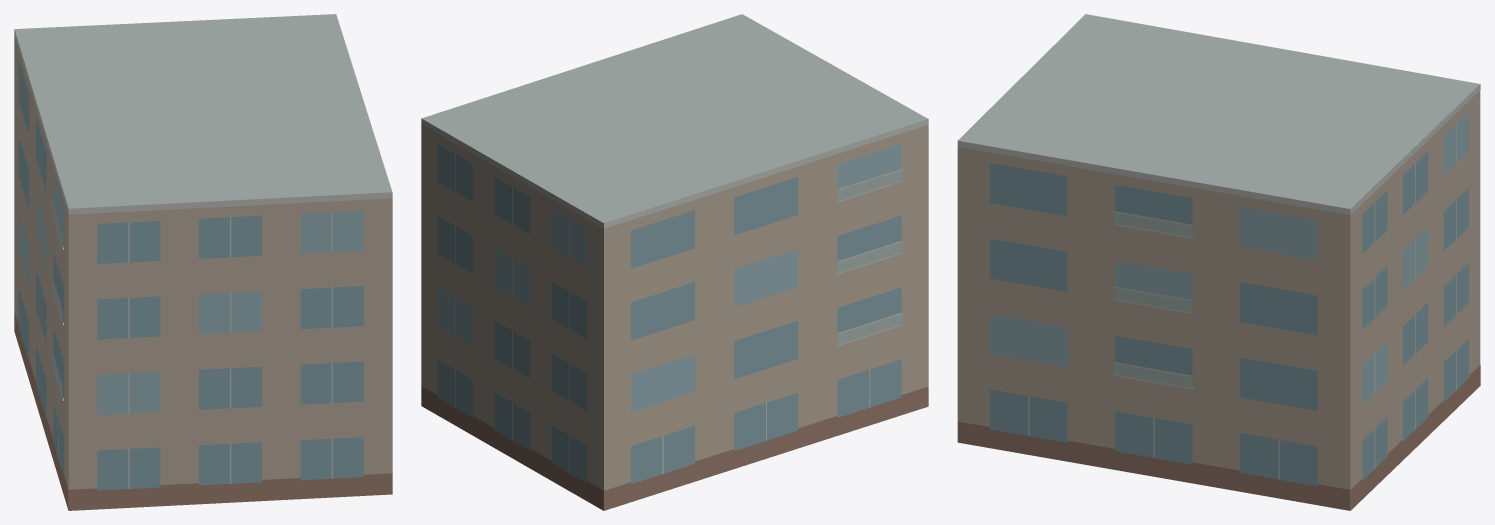
The model's file is survey-upis-32888611.glb.
3 renders of one model, left to right at view 1: azimuth 30°, elevation 25°; view 2: azimuth 150°, elevation 25°; view 3: azimuth 270°, elevation 25°, orthographic. The views are drawn at different scales.
Parts seen in each view (by area): view 1: survey-upis-32888611.tmp; view 2: survey-upis-32888611.tmp; view 3: survey-upis-32888611.tmp.
Boxes of the visible parts, x1,y1,x2,y2 form: survey-upis-32888611.tmp: (14, 14, 392, 510); survey-upis-32888611.tmp: (421, 14, 928, 510); survey-upis-32888611.tmp: (957, 14, 1480, 510).
Size of the model in its own units: 16.92 by 12.2 by 19.17.
